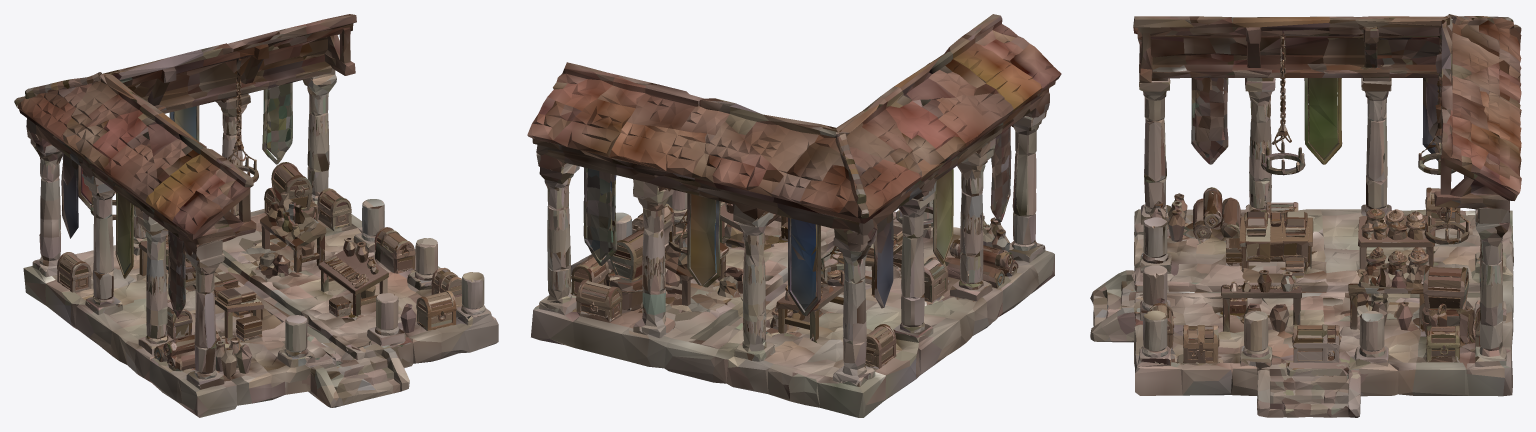
Rendered from market_t3.glb.
The picture shows the model from 3 angles, left to right: view 1: azimuth 30°, elevation 25°; view 2: azimuth 150°, elevation 25°; view 3: azimuth 270°, elevation 25°; orthographic projection. The views are drawn at different scales.
Parts seen in each view (by area): view 1: tripo_part_24, tripo_part_19, tripo_part_0, tripo_part_8, tripo_part_25, tripo_part_11, tripo_part_38, tripo_part_23, tripo_part_37, tripo_part_12, tripo_part_13, tripo_part_40 (+19 smaller); view 2: tripo_part_24, tripo_part_19, tripo_part_8, tripo_part_38, tripo_part_36, tripo_part_37, tripo_part_23, tripo_part_35, tripo_part_4, tripo_part_12, tripo_part_41, tripo_part_39 (+13 smaller); view 3: tripo_part_24, tripo_part_19, tripo_part_8, tripo_part_17, tripo_part_13, tripo_part_26, tripo_part_37, tripo_part_0, tripo_part_31, tripo_part_23, tripo_part_20, tripo_part_7 (+18 smaller).
Boxes of the visible parts, x1=… form: tripo_part_24: x1=18, y1=14, x2=356, y2=255; tripo_part_19: x1=23, y1=208, x2=498, y2=417; tripo_part_0: x1=302, y1=342, x2=411, y2=407; tripo_part_8: x1=138, y1=240, x2=241, y2=389; tripo_part_25: x1=241, y1=191, x2=326, y2=278; tripo_part_11: x1=318, y1=237, x2=388, y2=317; tripo_part_38: x1=26, y1=128, x2=62, y2=277; tripo_part_23: x1=82, y1=174, x2=122, y2=313; tripo_part_37: x1=302, y1=68, x2=336, y2=204; tripo_part_12: x1=135, y1=207, x2=168, y2=340; tripo_part_13: x1=193, y1=272, x2=263, y2=341; tripo_part_40: x1=262, y1=82, x2=292, y2=164; tripo_part_24: x1=527, y1=14, x2=1061, y2=308; tripo_part_19: x1=531, y1=205, x2=1054, y2=417; tripo_part_8: x1=924, y1=97, x2=1049, y2=304; tripo_part_38: x1=832, y1=225, x2=877, y2=386; tripo_part_36: x1=633, y1=179, x2=675, y2=338; tripo_part_37: x1=536, y1=153, x2=579, y2=314; tripo_part_23: x1=893, y1=181, x2=936, y2=340; tripo_part_35: x1=735, y1=211, x2=773, y2=361; tripo_part_4: x1=1009, y1=112, x2=1045, y2=262; tripo_part_12: x1=957, y1=138, x2=995, y2=283; tripo_part_41: x1=788, y1=217, x2=820, y2=315; tripo_part_39: x1=687, y1=193, x2=720, y2=287; tripo_part_24: x1=1133, y1=15, x2=1521, y2=212; tripo_part_19: x1=1134, y1=201, x2=1513, y2=396; tripo_part_8: x1=1139, y1=53, x2=1298, y2=244; tripo_part_17: x1=1257, y1=363, x2=1368, y2=417; tripo_part_13: x1=1226, y1=211, x2=1316, y2=278; tripo_part_26: x1=1356, y1=208, x2=1438, y2=279; tripo_part_37: x1=1475, y1=208, x2=1509, y2=361; tripo_part_0: x1=1090, y1=266, x2=1142, y2=342; tripo_part_31: x1=1421, y1=265, x2=1474, y2=343; tripo_part_23: x1=1361, y1=66, x2=1391, y2=216; tripo_part_20: x1=1304, y1=78, x2=1342, y2=164; tripo_part_7: x1=1191, y1=78, x2=1228, y2=164.
Size of the model in its own units: 0.9797 by 0.6284 by 0.9778.
1 material, 1 textured.
